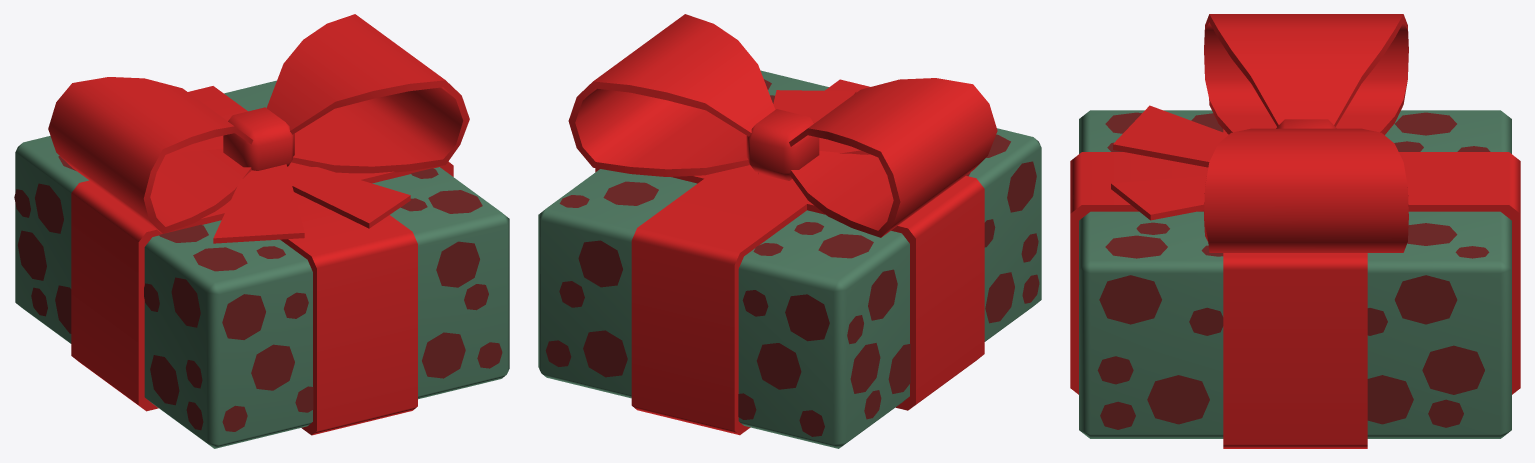
Rendered from Gift_12_231109.glb.
3 views of the same model, side by side, from view 1: azimuth 30°, elevation 25°; view 2: azimuth 150°, elevation 25°; view 3: azimuth 270°, elevation 25° (orthographic). The views are drawn at different scales.
Visible parts, largest first — view 1: Gift_12; view 2: Gift_12; view 3: Gift_12.
Boxes of the visible parts, left/top/right/bottom form: Gift_12: left=14, top=14, right=509, bottom=448; Gift_12: left=538, top=14, right=1041, bottom=448; Gift_12: left=1070, top=14, right=1520, bottom=448.
Bounding box in the file's own units: 0.6564 × 0.5109 × 0.7318.
Materials: 1 (1 with a texture image).
